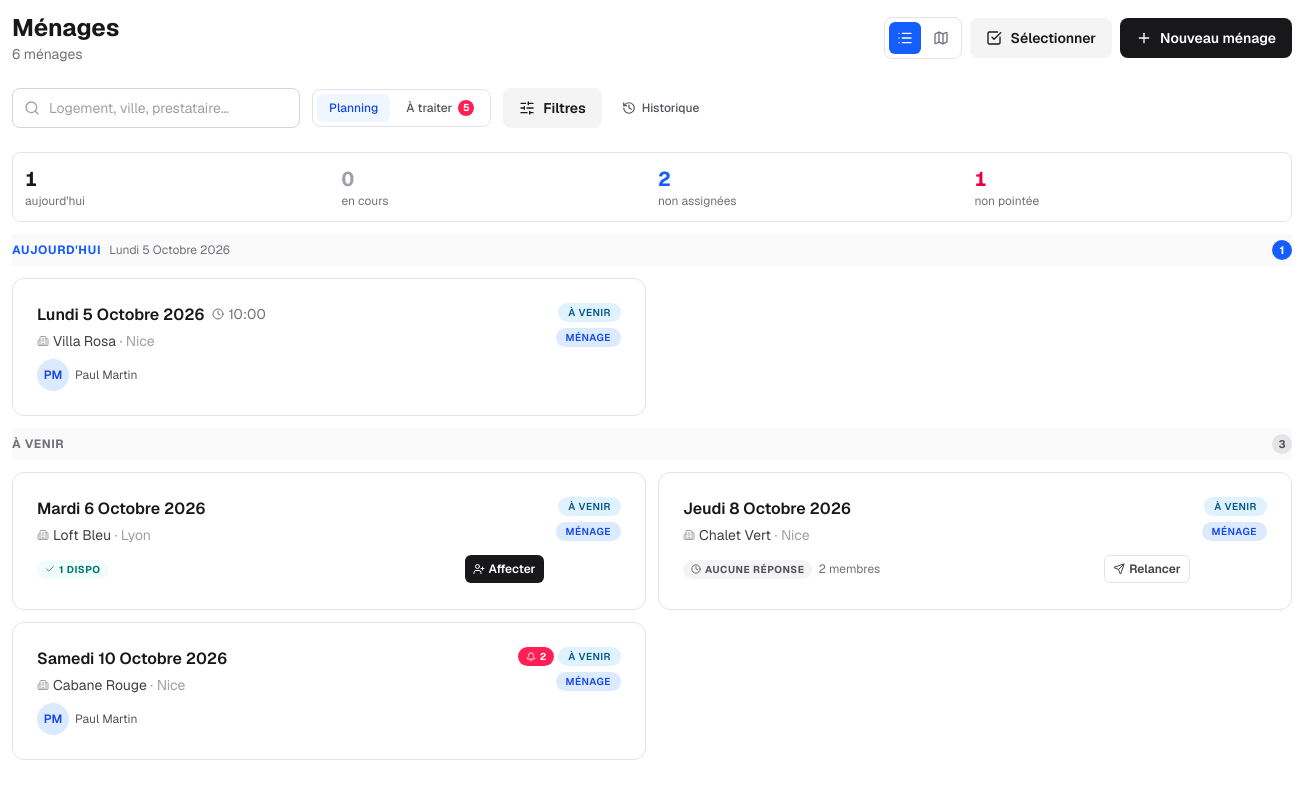
Test: Liste des prestations — filtres mémorisés › anti « badge fantôme » : une prestation avec du nouveau masquée par un filtre est remontée en tête
Expected: the heading "Aujourd'hui" is shown, [12, 242, 101, 258]
Expected: the text "masquée par tes filtres" is not shown
Click the button "Filtres". click: (553, 108)
box: [503, 88, 602, 128]
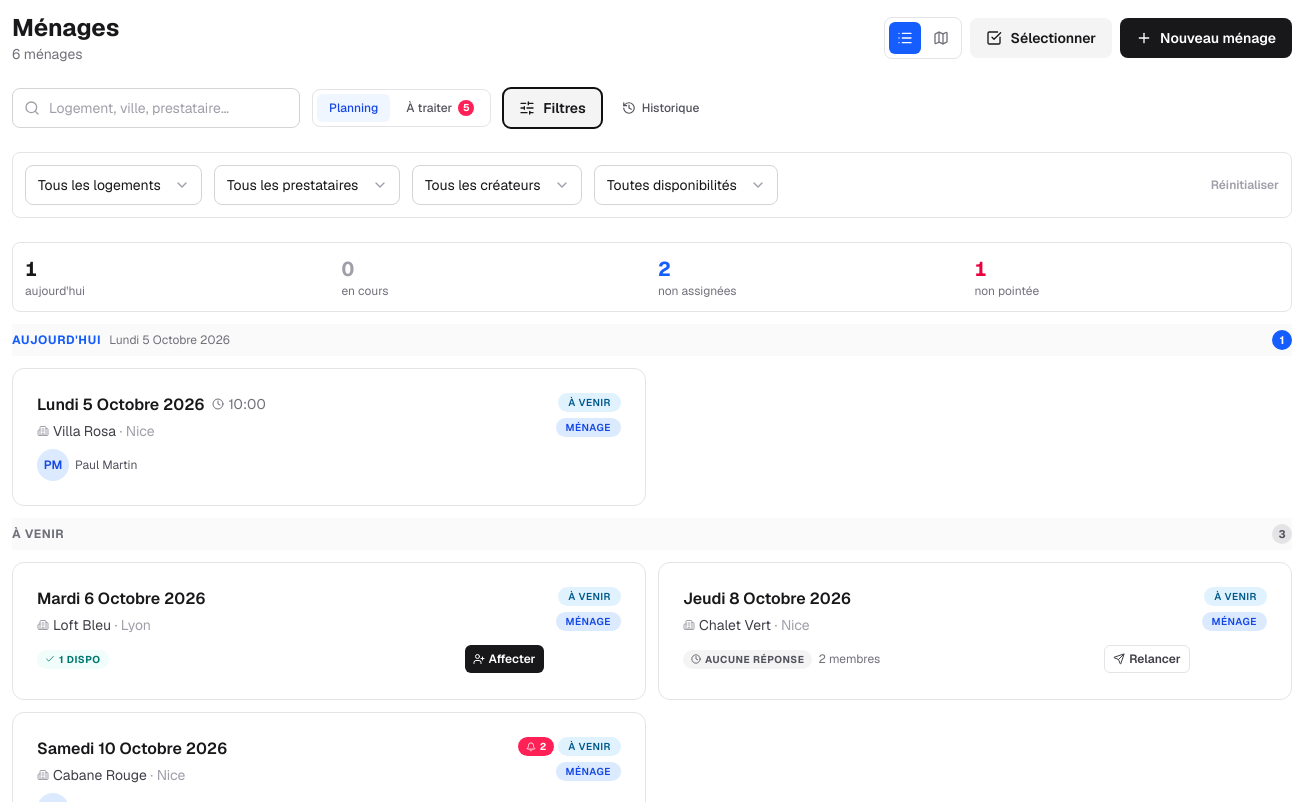
Select "Loft Bleu" in the dropdown named "Filtrer par logement". click: (114, 185)
box: [25, 165, 202, 205]
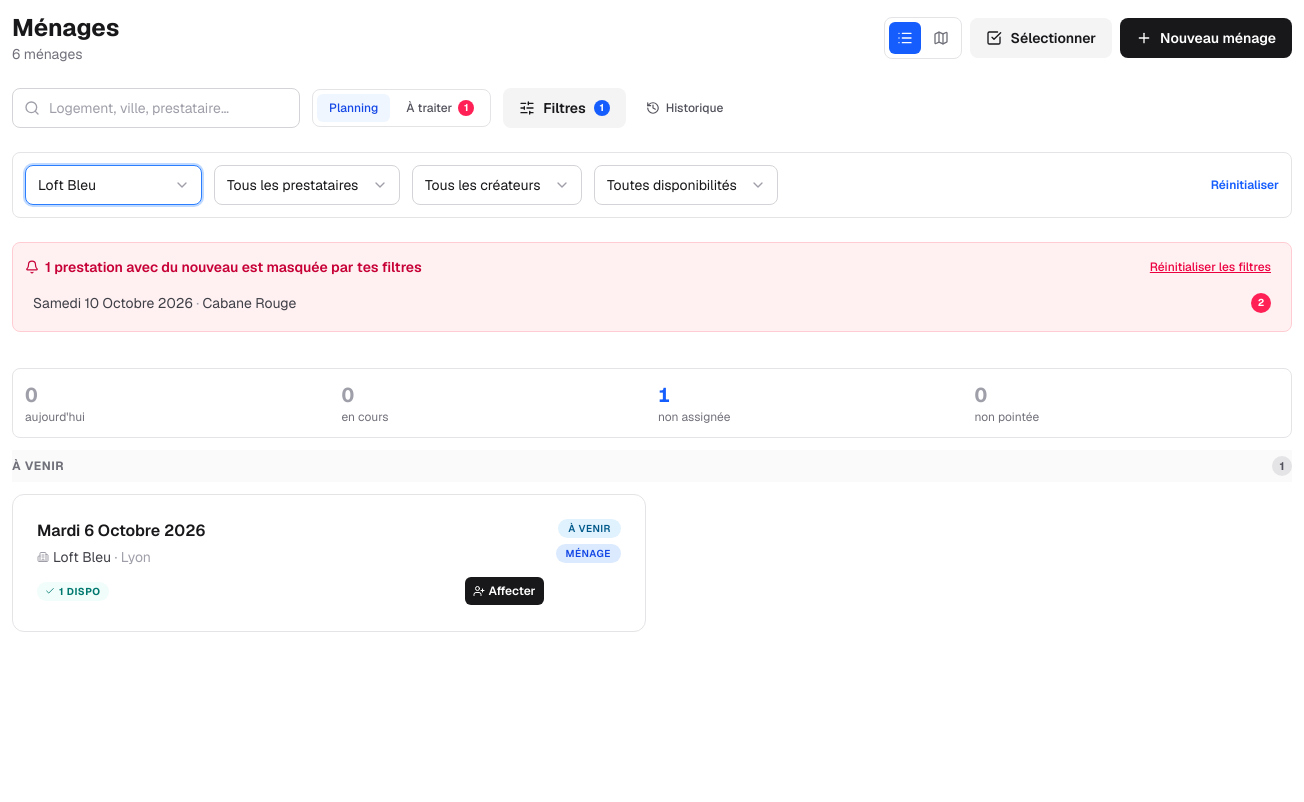
Expected: the text "Cabane Rouge" is shown, [202, 294, 296, 312]
Click the button "Réinitialiser les filtres". click: (1210, 267)
box: [1142, 255, 1279, 279]
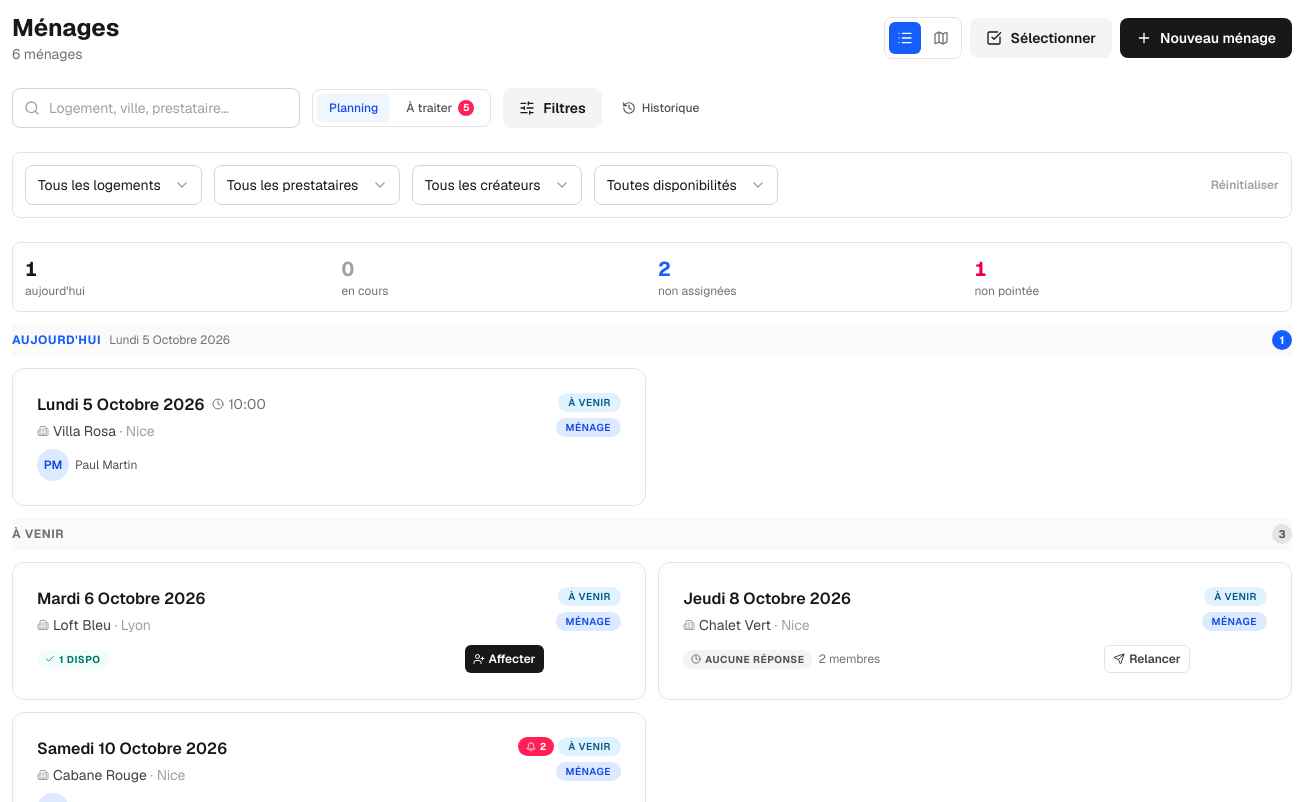
Expected: the text "masquée par tes filtres" is gone
